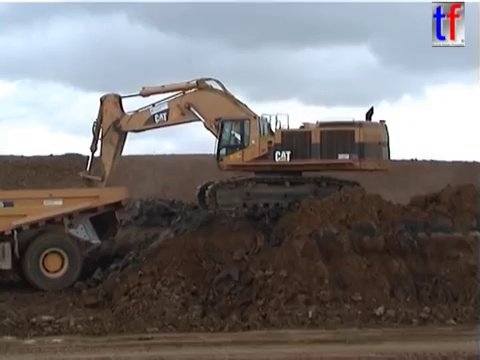excavator: (60, 75, 393, 247)
truck: (1, 184, 130, 292)
